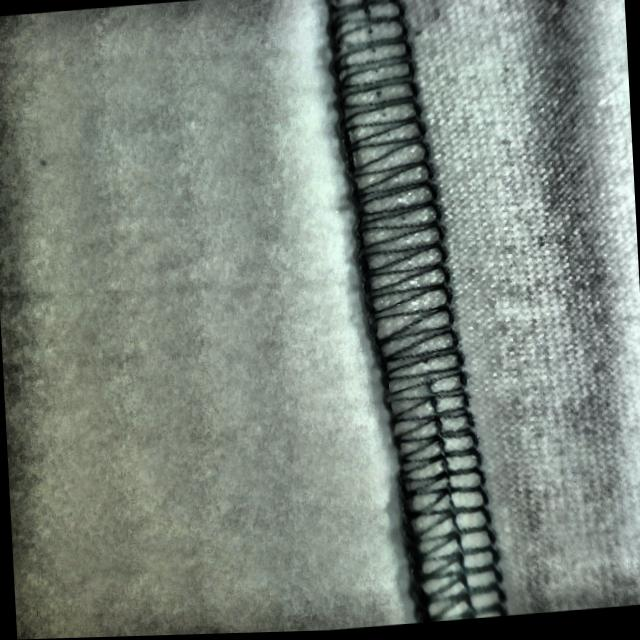Stitch: (356, 242, 512, 629)
